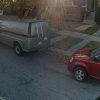Car: (64, 42, 100, 89)
